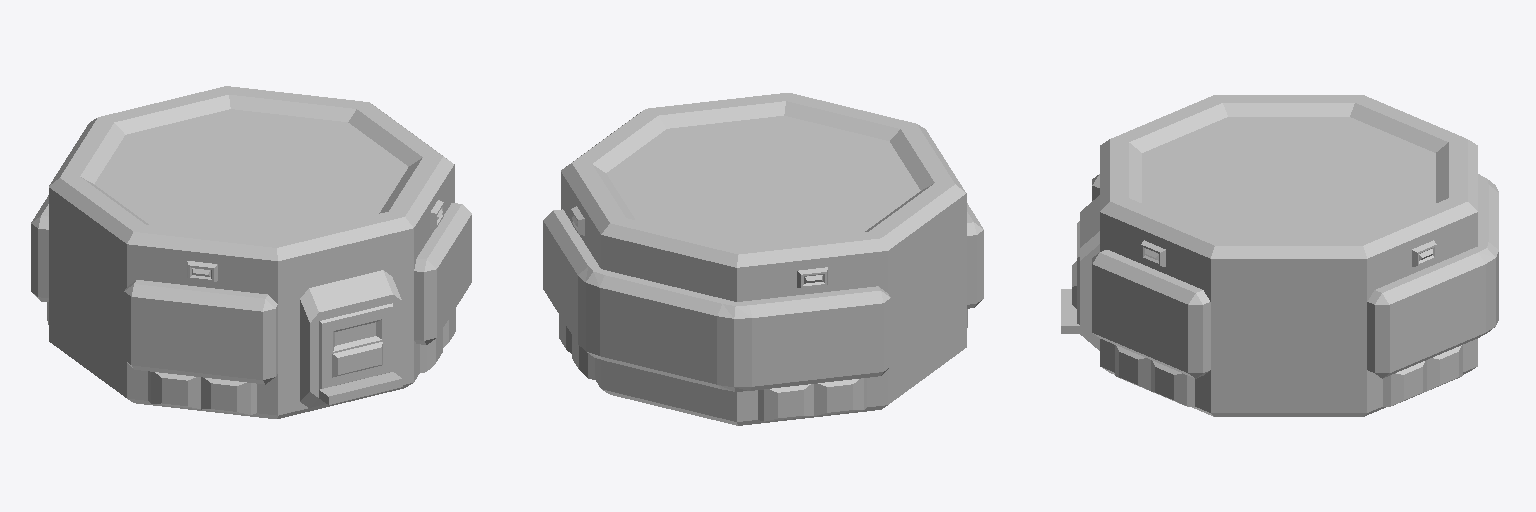
Rendered from basemodule_B.obj.
The picture shows the model from 3 angles: view 1: azimuth 30°, elevation 25°; view 2: azimuth 150°, elevation 25°; view 3: azimuth 270°, elevation 25°; orthographic projection.
Visible parts, largest first — view 1: basemodule_B_Cylinder.2716; view 2: basemodule_B_Cylinder.2716; view 3: basemodule_B_Cylinder.2716.
Boxes of the visible parts, x1=… form: basemodule_B_Cylinder.2716: x1=31, y1=86, x2=471, y2=418; basemodule_B_Cylinder.2716: x1=543, y1=93, x2=983, y2=425; basemodule_B_Cylinder.2716: x1=1061, y1=95, x2=1498, y2=416.
Size of the model in its own units: 2.08 by 1 by 2.32.